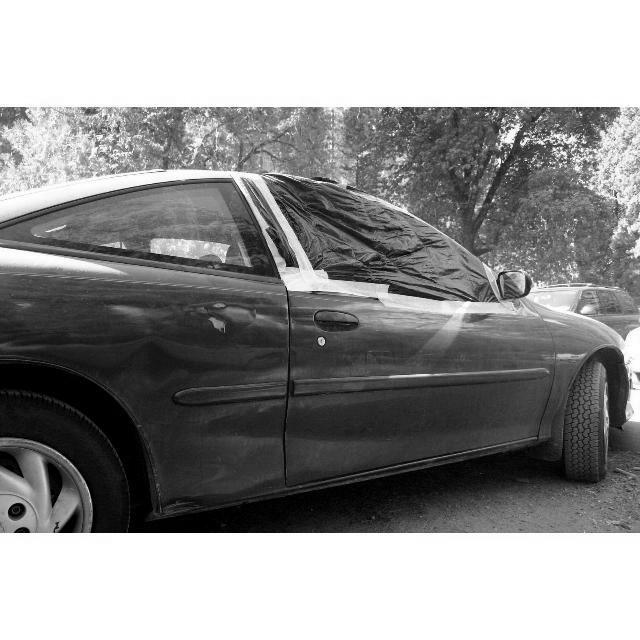doorouter-dent: (136, 276, 295, 504)
